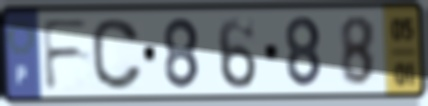6: (215, 14, 260, 92)
8: (162, 15, 203, 92), (283, 14, 325, 89), (337, 13, 378, 89)
C: (89, 16, 146, 93)
F: (39, 16, 94, 94)
